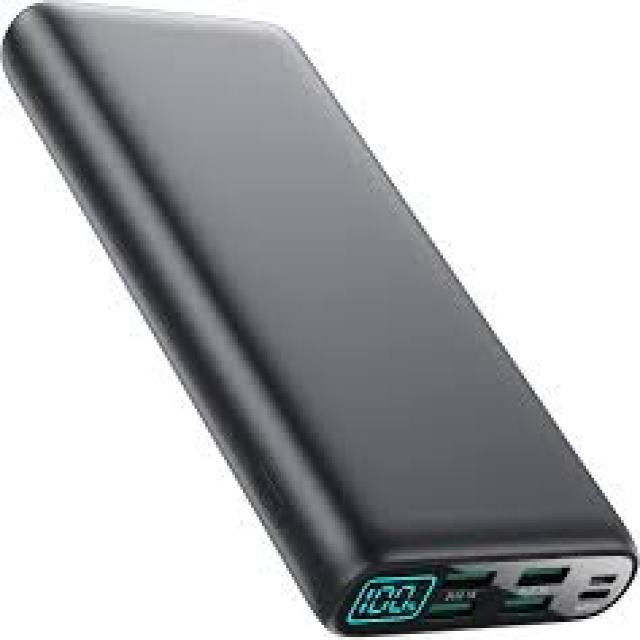power_bank: (0, 3, 640, 628)
